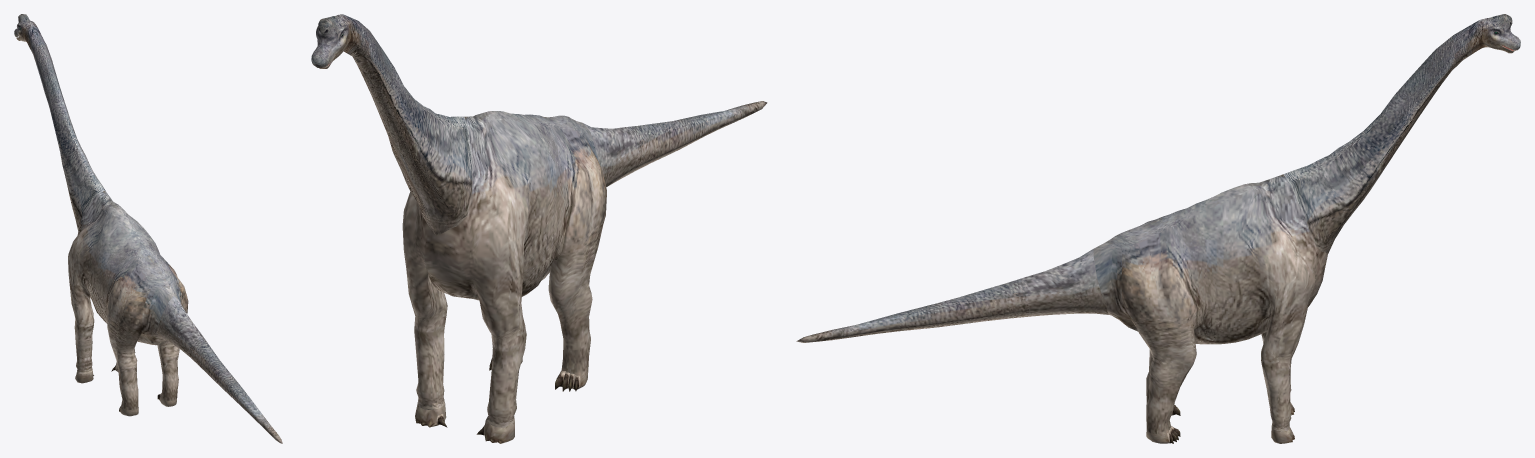
3 renders of one model, left to right at view 1: azimuth 30°, elevation 25°; view 2: azimuth 150°, elevation 25°; view 3: azimuth 270°, elevation 25°, orthographic. The views are drawn at different scales.
Visible parts, largest first — view 1: Brachiosaur; view 2: Brachiosaur; view 3: Brachiosaur.
Part boxes in pixels (box(x1,y1,x2,y2)): Brachiosaur: box(14, 14, 282, 443); Brachiosaur: box(311, 14, 767, 443); Brachiosaur: box(796, 14, 1520, 443).
Bounding box in the file's own units: 1.77 × 7.51 × 11.96.
Materials: 1 (1 with a texture image).
